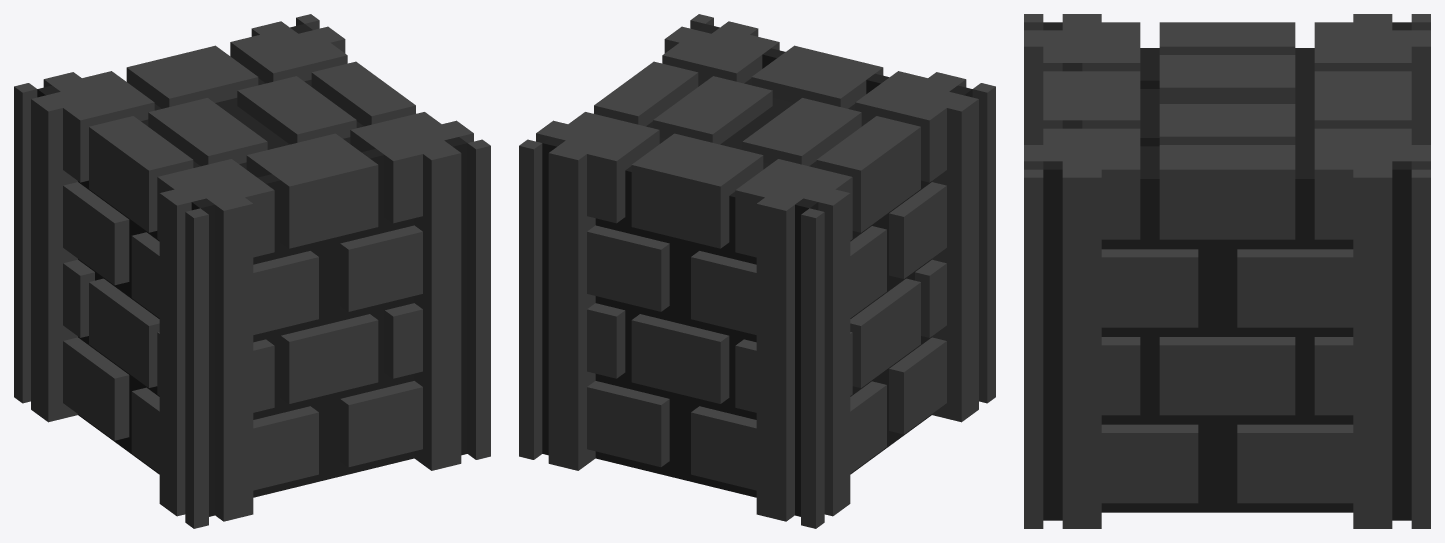
The model's file is wall_side.obj.
The picture shows the model from 3 angles, left to right: view 1: azimuth 30°, elevation 25°; view 2: azimuth 150°, elevation 25°; view 3: azimuth 270°, elevation 25°; orthographic projection. The views are drawn at different scales.
Bounding box in the file's own units: 20 × 20 × 21.
1 material, 1 textured.
